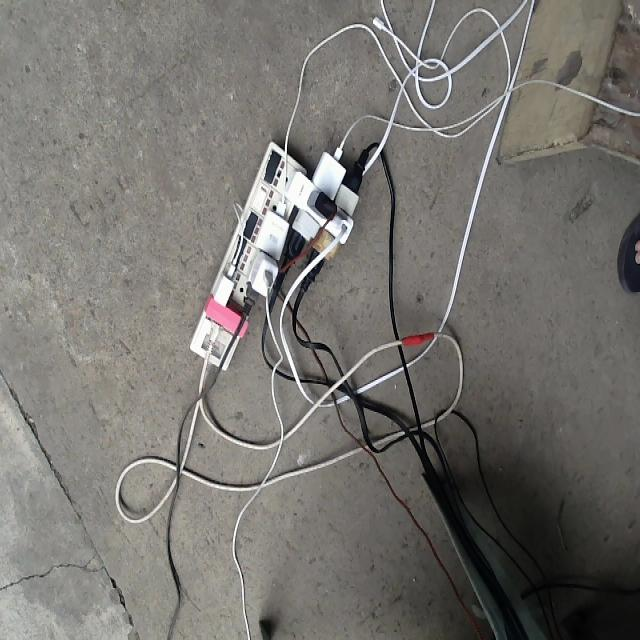-: (189, 144, 366, 381)
